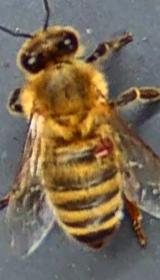varroa_mite: (82, 131, 119, 160)
